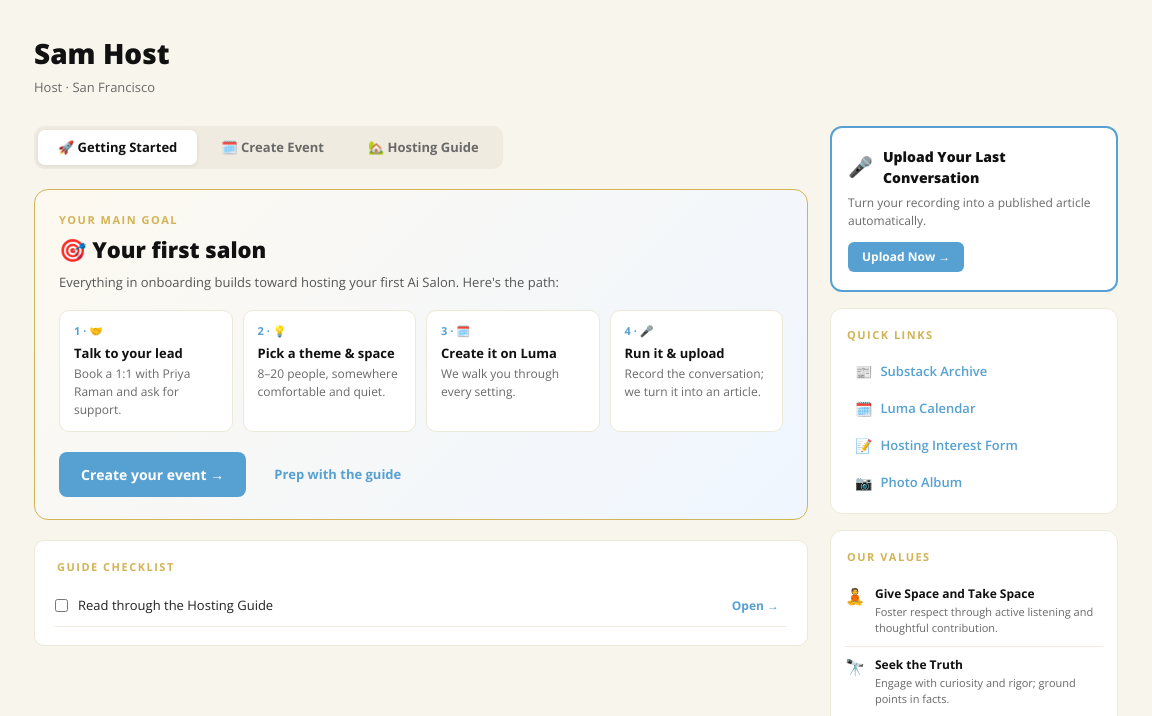
Test: WelcomeDashboard — host onboarding › Hosting Guide checklist routes support through the chapter lead
Click the button "🏡 Hosting Guide" at {"x": 423, "y": 147}, box [348,130,499,165]
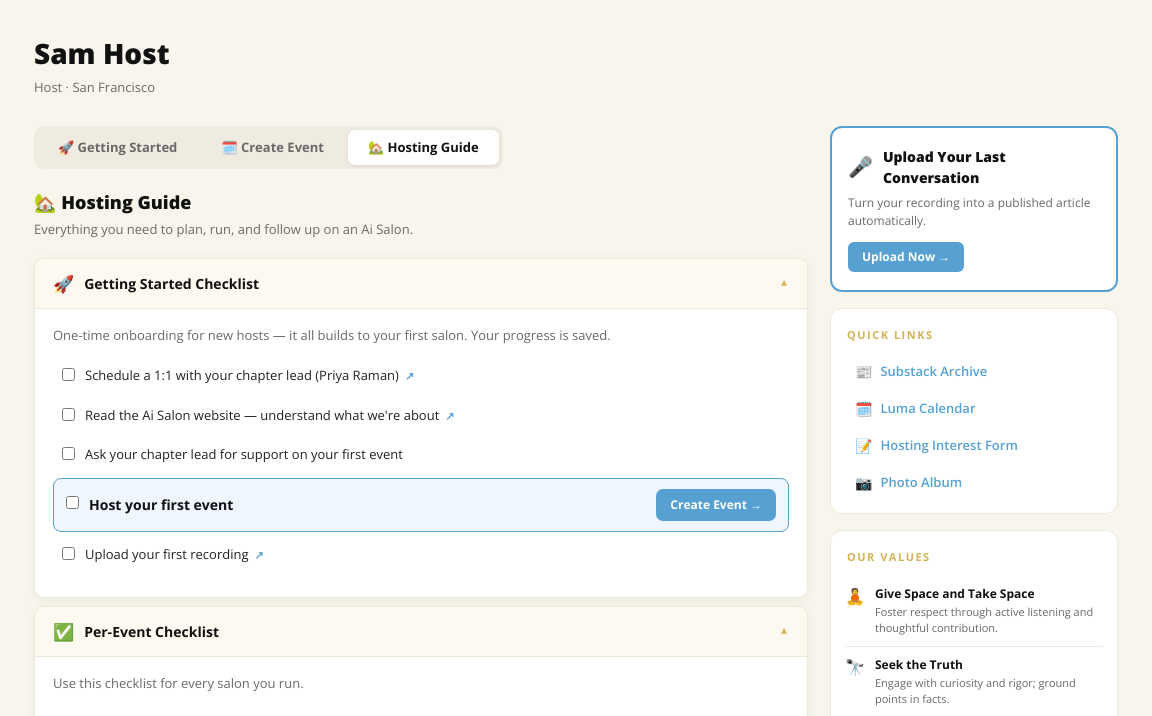
Check: the checkbox labelled "Ask your chapter lead for support on your first event" is shown, box [62,447,75,460]
Check: the label "Schedule a 1:1 with your chapter lead (Priya Raman) ↗" is shown, box [62,366,414,384]
